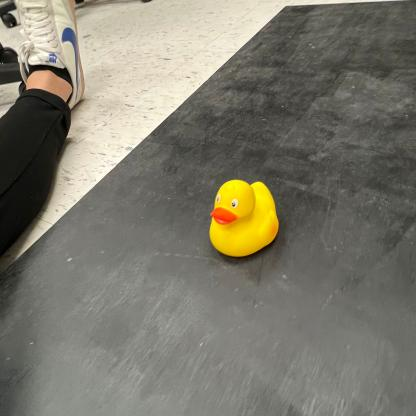duck: (208, 177, 280, 259)
